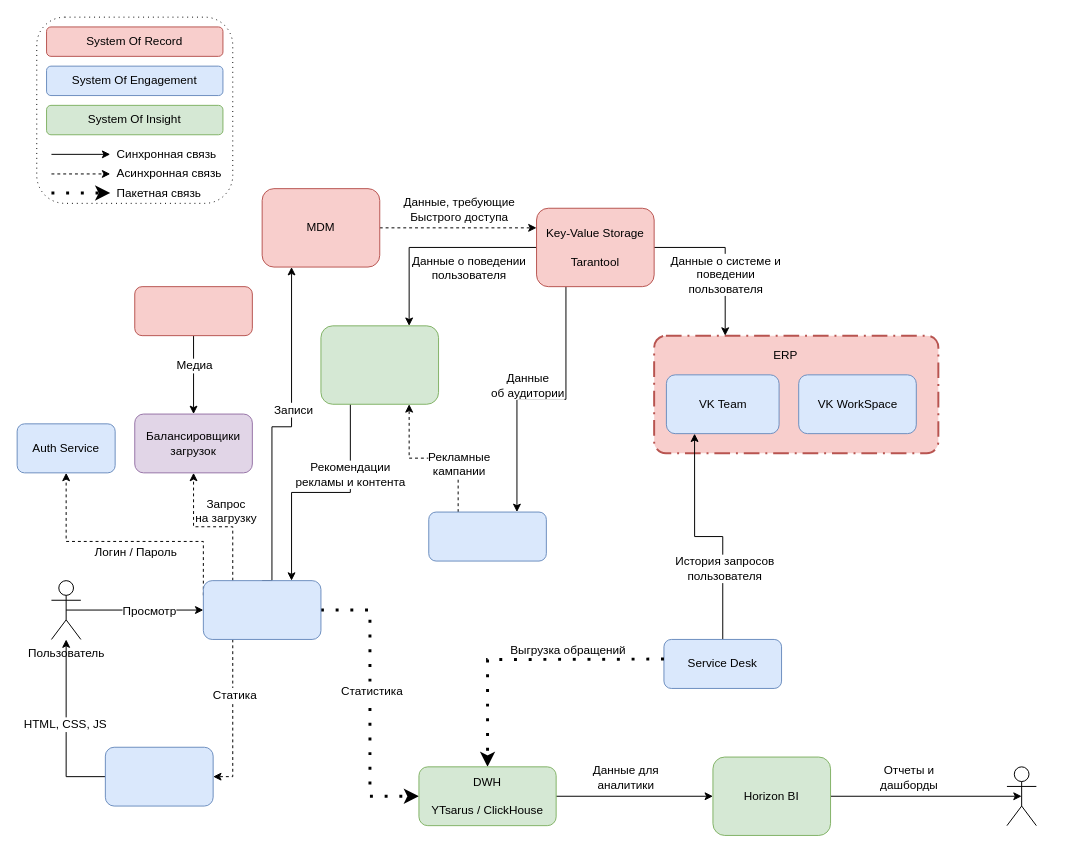
Some shapes in this 1074 by 863 pixel diagram are drawn without their labels. Here are the shapes that lost their labels. From the top down, the centre of each, then its label:
At (193,311): "S3 VK Cloud".
At (379,364): "Рекомендательные системы".
At (487,536): "Ads Platform".
At (261,609): "Клиент".
At (158,776): "CDN".
At (1021,796): "Менеджмент".
